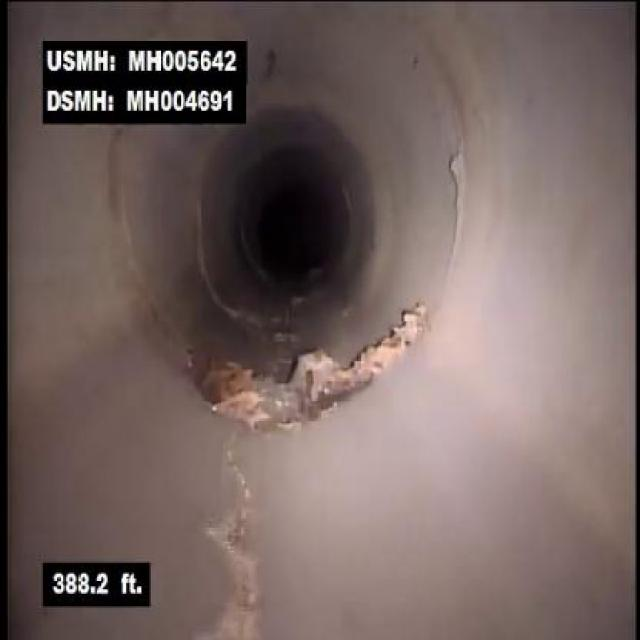Debris: (240, 309, 348, 440)
